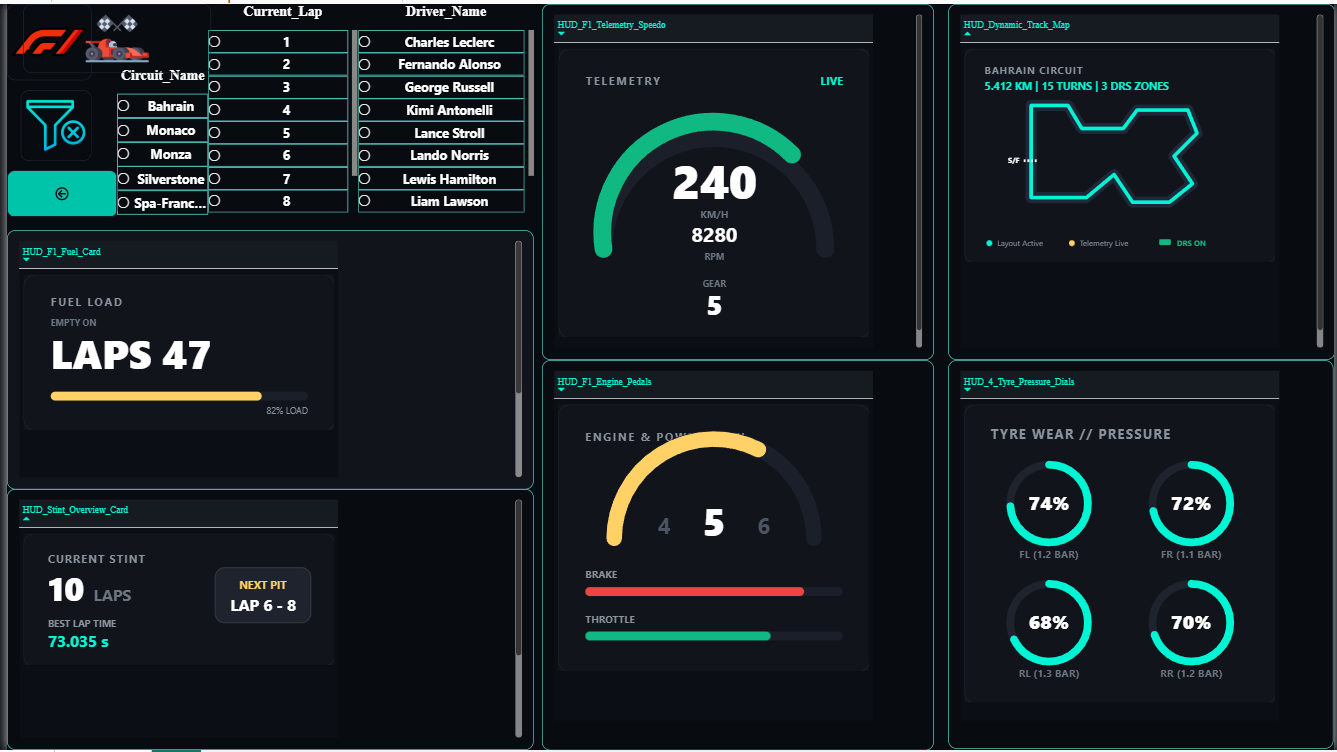

This screenshot's page, from the dashboard's own definition file:
{"tool":"powerbi","page":{"name":"Page 2","canvas":[1920,1080],"ordinal":1},"visuals":[{"type":"tableEx","fields":{"Values":["F1_Telemetry.HUD_Stint_Overview_Card"]},"box":[0,702.5,762.5,377.5],"z":0},{"type":"tableEx","fields":{"Values":["F1_Telemetry.HUD_4_Tyre_Pressure_Dials"]},"box":[1362.5,515,557.5,562.5],"z":1000},{"type":"tableEx","fields":{"Values":["F1_Telemetry.HUD_Dynamic_Track_Map"]},"box":[1362.5,0,560,515],"z":2000},{"type":"tableEx","fields":{"Values":["F1_Telemetry.HUD_F1_Telemetry_Speedo"]},"box":[775,0,567.5,515],"z":3000},{"type":"tableEx","fields":{"Values":["F1_Telemetry.HUD_F1_Engine_Pedals"]},"box":[775,515,567.5,565],"z":4000},{"type":"tableEx","fields":{"Values":["F1_Telemetry.HUD_F1_Fuel_Card"]},"box":[0,327.5,762.5,375],"z":5000},{"type":"listSlicer","fields":{"Values":["F1_Telemetry.Circuit_Name"]},"box":[160,92,132,216],"z":6000},{"type":"listSlicer","fields":{"Values":["F1_Telemetry.Driver_Name"]},"box":[508,0,254,308],"z":7000},{"type":"listSlicer","fields":{"Values":["F1_Telemetry.Current_Lap"]},"box":[292,0,216,308],"z":8000},{"type":"actionButton","box":[0,240,160,68],"z":9000},{"type":"image","box":[20,124,102,102],"z":9002},{"type":"image","box":[0,0,122,110],"z":9003},{"type":"image","box":[24,0,272,100],"z":9004}]}

Visuals, with their boxes in screenshot pixels (x1, y1, x2, y2):
tableEx - F1_Telemetry.HUD_Stint_Overview_Card: locate(3, 482, 527, 742)
tableEx - F1_Telemetry.HUD_4_Tyre_Pressure_Dials: locate(939, 354, 1322, 740)
tableEx - F1_Telemetry.HUD_Dynamic_Track_Map: locate(939, 0, 1324, 354)
tableEx - F1_Telemetry.HUD_F1_Telemetry_Speedo: locate(536, 0, 925, 354)
tableEx - F1_Telemetry.HUD_F1_Engine_Pedals: locate(536, 354, 925, 742)
tableEx - F1_Telemetry.HUD_F1_Fuel_Card: locate(3, 225, 527, 482)
listSlicer - F1_Telemetry.Circuit_Name: locate(113, 63, 204, 212)
listSlicer - F1_Telemetry.Driver_Name: locate(352, 0, 527, 212)
listSlicer - F1_Telemetry.Current_Lap: locate(204, 0, 352, 212)
actionButton: locate(3, 165, 113, 212)
image: locate(17, 85, 87, 155)
image: locate(3, 0, 87, 76)
image: locate(20, 0, 207, 69)
